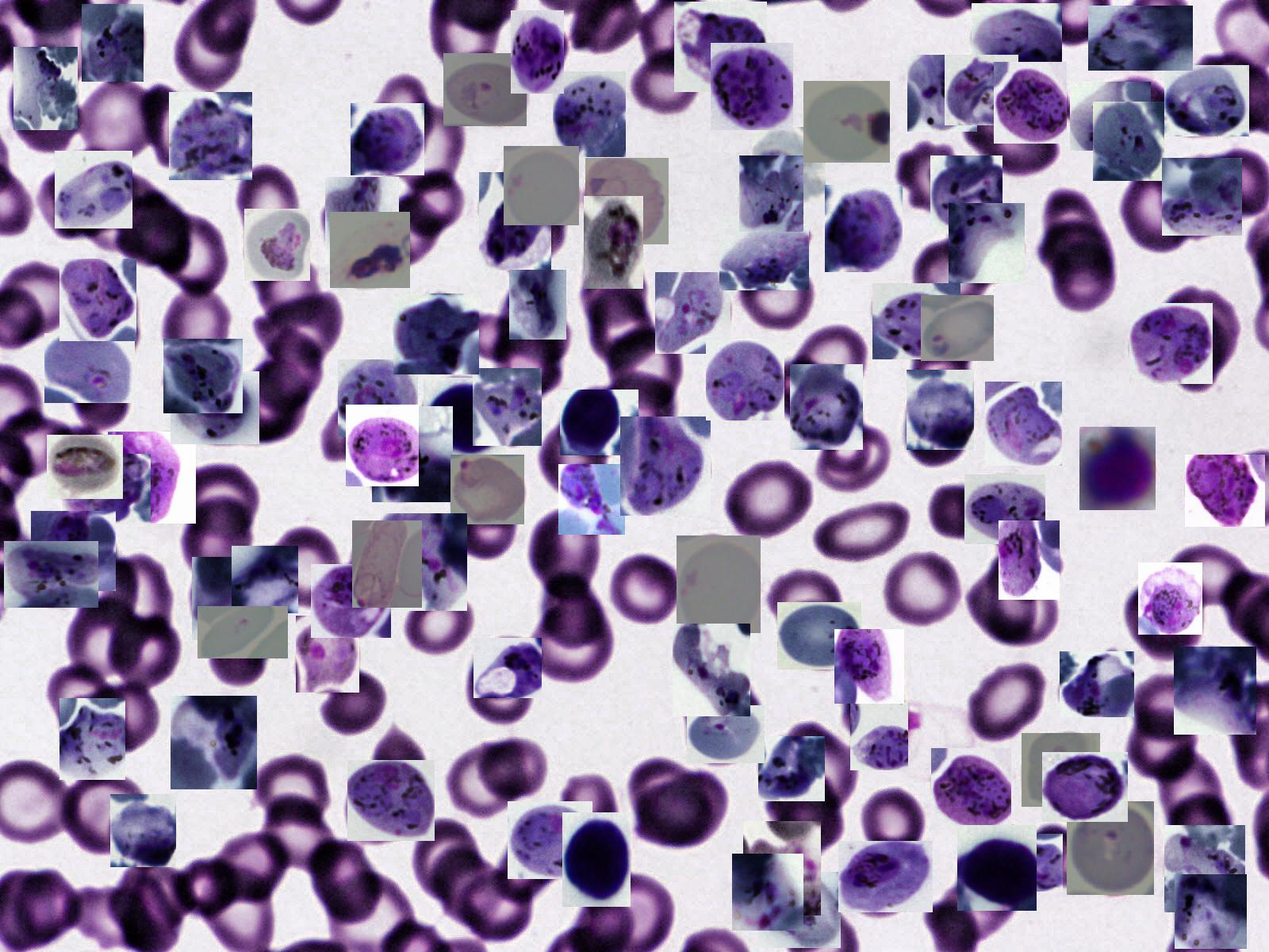Infected: (620, 416, 711, 516), (378, 513, 467, 611), (674, 2, 767, 92), (1067, 801, 1154, 895), (677, 536, 761, 633), (108, 432, 196, 524), (171, 696, 257, 789), (372, 406, 453, 502), (743, 821, 821, 916), (169, 92, 252, 180), (585, 158, 669, 244), (1174, 647, 1256, 735), (803, 81, 890, 163), (711, 44, 793, 131), (479, 172, 551, 271), (673, 624, 750, 716), (348, 760, 435, 841), (1164, 825, 1245, 912), (325, 177, 399, 272), (393, 294, 479, 374), (957, 825, 1037, 911), (1088, 6, 1193, 71), (1129, 303, 1213, 384), (31, 511, 116, 591), (825, 185, 903, 272), (838, 841, 933, 912), (872, 283, 960, 359), (719, 216, 809, 290), (424, 378, 506, 459), (931, 748, 1011, 830), (562, 812, 631, 907), (508, 801, 592, 879), (985, 382, 1062, 466), (171, 371, 259, 444), (1079, 427, 1156, 510), (45, 333, 136, 403), (59, 259, 136, 341), (758, 872, 841, 948), (972, 3, 1062, 73), (4, 541, 98, 608), (553, 71, 626, 157), (790, 364, 863, 450), (707, 340, 785, 420), (1162, 158, 1242, 236), (339, 359, 418, 437), (63, 454, 151, 524), (352, 520, 422, 608), (655, 272, 730, 354), (443, 53, 527, 126), (949, 203, 1025, 283), (330, 212, 410, 288), (1164, 65, 1249, 136), (994, 62, 1067, 144), (1042, 753, 1128, 822), (55, 151, 132, 228), (504, 146, 579, 225), (312, 564, 392, 638), (163, 339, 243, 413), (346, 405, 419, 486), (1022, 733, 1100, 807), (1185, 455, 1265, 527), (777, 602, 861, 670), (930, 156, 1003, 234), (964, 474, 1045, 544), (752, 127, 826, 203), (1093, 102, 1164, 181), (1070, 82, 1151, 151), (584, 196, 643, 289), (732, 854, 803, 931), (59, 698, 125, 780), (1175, 874, 1247, 949), (907, 55, 977, 132), (473, 368, 542, 446), (907, 370, 974, 450), (14, 47, 78, 130), (351, 103, 424, 175), (834, 629, 904, 704), (945, 55, 1018, 125), (450, 455, 524, 524), (560, 390, 638, 455), (739, 155, 803, 232), (192, 557, 251, 640), (1060, 651, 1134, 717), (999, 520, 1060, 600), (47, 435, 123, 499), (296, 616, 359, 693), (82, 4, 144, 82), (921, 295, 994, 361), (110, 794, 176, 867), (558, 464, 625, 535), (244, 209, 310, 281), (197, 606, 288, 658), (1138, 562, 1202, 635), (687, 705, 765, 763), (511, 10, 564, 94), (232, 546, 298, 613), (758, 736, 825, 801), (990, 834, 1063, 892), (473, 638, 542, 698), (509, 270, 566, 340), (850, 702, 908, 770)
Uninfected: (58, 770, 158, 858), (302, 831, 389, 928), (167, 0, 256, 94), (74, 74, 162, 168), (526, 497, 603, 602), (724, 456, 815, 543), (911, 236, 998, 322), (1118, 163, 1198, 255), (932, 862, 1024, 941), (1156, 287, 1242, 370), (966, 658, 1048, 745), (765, 765, 845, 854), (959, 106, 1063, 174), (533, 600, 616, 685), (263, 522, 343, 609), (389, 103, 468, 190), (968, 553, 1041, 647), (491, 310, 564, 403), (881, 548, 963, 630), (209, 828, 293, 908), (48, 663, 128, 747), (107, 860, 196, 935), (811, 495, 907, 564), (259, 791, 335, 878), (254, 290, 343, 364), (105, 608, 185, 689), (790, 324, 866, 409), (608, 324, 684, 409), (783, 724, 856, 812), (627, 755, 707, 835), (66, 597, 145, 678), (1131, 668, 1213, 746), (431, 845, 508, 928), (79, 172, 159, 251), (588, 286, 663, 370), (138, 83, 207, 174), (251, 754, 333, 830), (10, 71, 86, 153), (159, 282, 232, 367), (444, 743, 524, 820), (117, 190, 194, 270), (62, 885, 162, 946), (401, 585, 480, 662), (608, 550, 684, 630), (183, 463, 263, 539), (154, 213, 228, 295), (362, 194, 444, 268), (251, 244, 321, 330), (1042, 185, 1111, 272), (250, 327, 323, 409), (103, 555, 174, 639), (653, 770, 730, 847), (428, 305, 523, 367), (1158, 747, 1224, 836), (739, 251, 814, 328), (1159, 544, 1253, 605), (496, 286, 569, 364), (216, 377, 301, 443), (859, 785, 930, 863), (466, 647, 537, 725), (181, 497, 250, 577), (542, 416, 609, 498), (539, 573, 611, 649), (600, 374, 679, 443), (912, 328, 973, 417), (460, 869, 530, 946), (1126, 704, 1194, 783), (506, 181, 571, 263), (1037, 216, 1114, 285), (683, 671, 761, 739), (67, 546, 136, 622), (413, 820, 481, 897), (236, 163, 301, 243), (558, 770, 618, 856), (371, 73, 433, 156), (85, 681, 159, 750), (627, 45, 702, 113), (1124, 582, 1189, 660), (818, 426, 891, 495), (763, 354, 836, 422), (1167, 310, 1229, 390), (581, 252, 647, 327), (766, 566, 842, 631), (843, 666, 907, 742), (1026, 822, 1095, 892), (897, 144, 968, 212), (75, 301, 140, 375), (38, 168, 105, 238), (1169, 790, 1236, 860), (1053, 240, 1117, 313), (368, 731, 428, 808), (457, 486, 517, 562), (397, 169, 464, 237), (477, 736, 547, 801), (1097, 80, 1170, 141), (904, 401, 972, 466), (316, 670, 384, 735), (492, 834, 553, 901), (929, 482, 993, 544), (171, 859, 238, 918), (206, 629, 268, 691), (75, 365, 134, 430)
